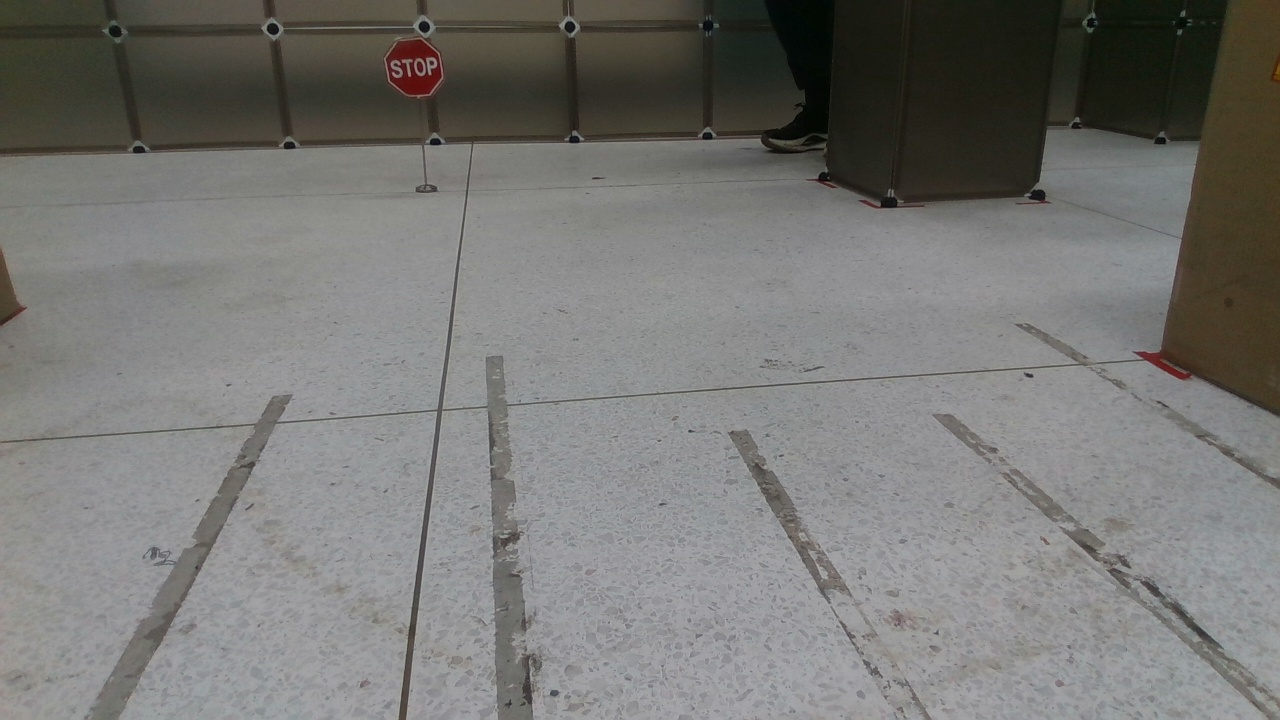Stop sign: (381, 37, 449, 98)
